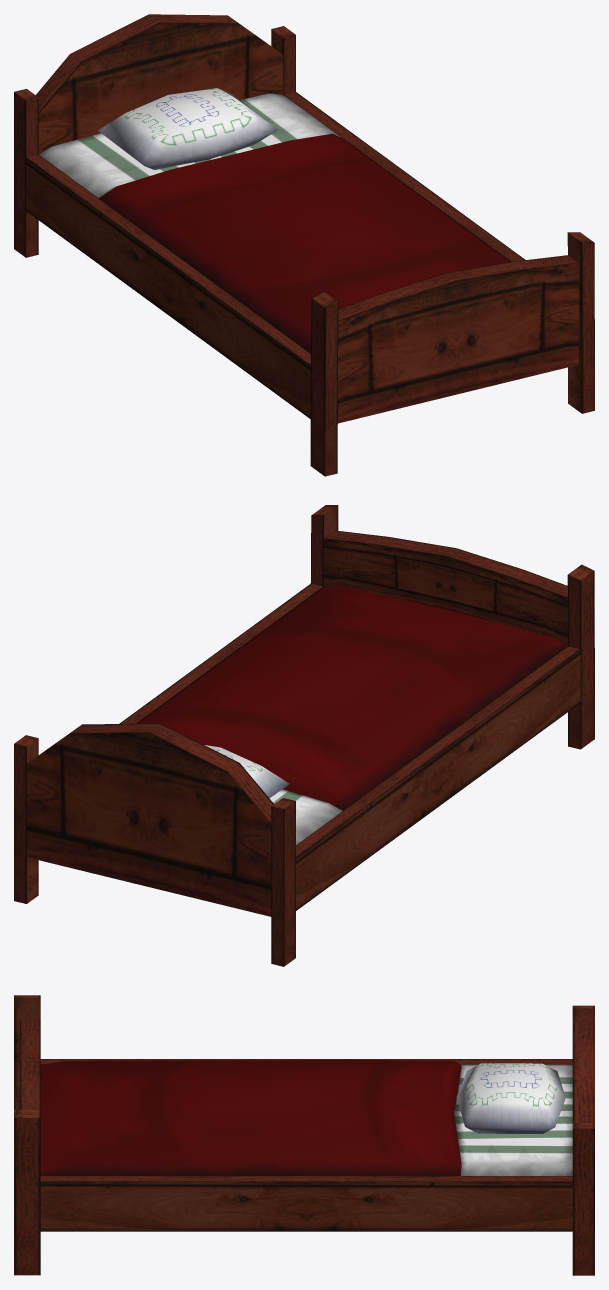
File: bed2.fbx
3 renders of one model, top to bottom at view 1: azimuth 30°, elevation 25°; view 2: azimuth 150°, elevation 25°; view 3: azimuth 270°, elevation 25°, orthographic. The views are drawn at different scales.
Visible parts, largest first — view 1: Cube.004, Cube.005; view 2: Cube.004, Cube.005; view 3: Cube.004, Cube.005.
Part boxes in pixels (left/top/right/bottom): Cube.004: left=14, top=14, right=594, bottom=476; Cube.005: left=98, top=88, right=278, bottom=169; Cube.004: left=14, top=505, right=594, bottom=966; Cube.005: left=204, top=745, right=289, bottom=798; Cube.004: left=14, top=995, right=594, bottom=1275; Cube.005: left=456, top=1063, right=565, bottom=1133.
Size of the model in its own units: 209 by 150 by 418.
